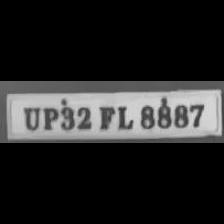2: (74, 103, 92, 131)
3: (58, 103, 74, 132)
7: (187, 101, 207, 128)
8: (136, 102, 156, 131), (170, 101, 188, 129), (155, 101, 170, 129)
F: (94, 102, 114, 130)
L: (113, 102, 135, 131)
P: (40, 103, 58, 131)
U: (18, 104, 42, 130)
